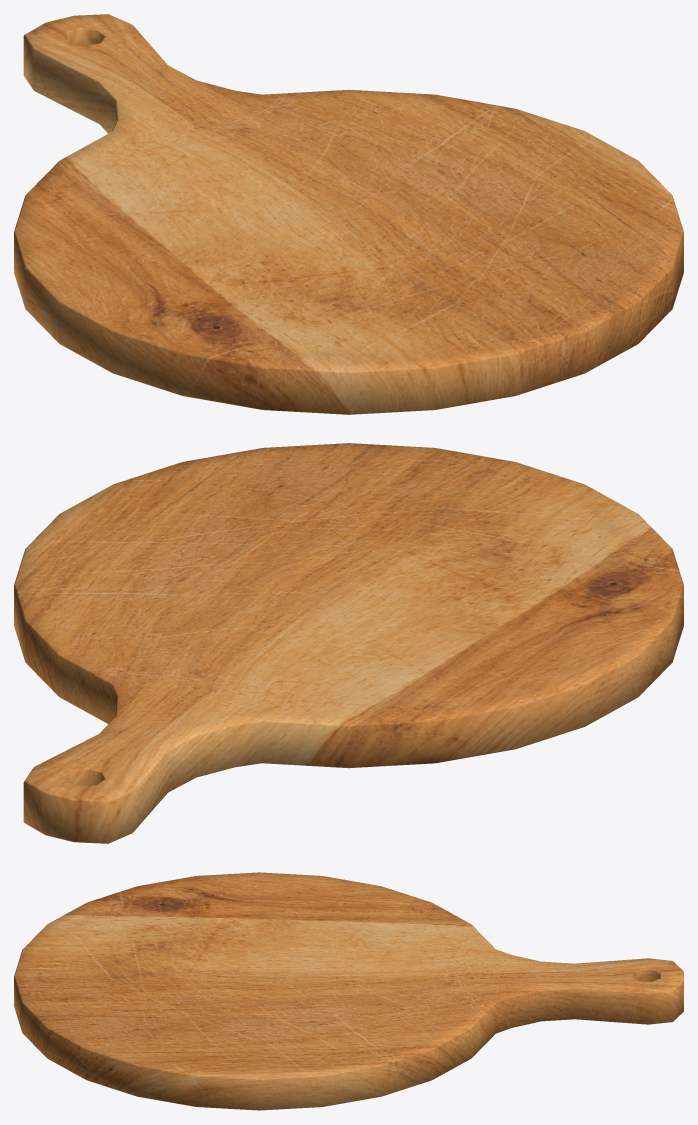
File: Piring Pizza.fbx
3 views of the same model, one above another, from view 1: azimuth 30°, elevation 25°; view 2: azimuth 150°, elevation 25°; view 3: azimuth 270°, elevation 25° (orthographic). The views are drawn at different scales.
Parts seen in each view (by area): view 1: Piring Pizza; view 2: Piring Pizza; view 3: Piring Pizza.
Boxes of the visible parts, box(x1,y1,x2,y2) form: Piring Pizza: box(14, 14, 683, 414); Piring Pizza: box(14, 443, 683, 843); Piring Pizza: box(14, 872, 683, 1110).
Size of the model in its own units: 31.57 by 2.25 by 43.1.
1 material, 1 textured.
